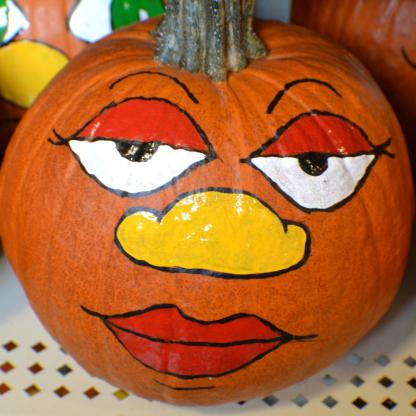Pumpkin: (0, 0, 416, 406), (0, 0, 167, 125), (290, 2, 416, 108)
